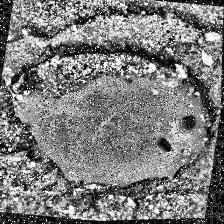pothole: (0, 25, 224, 217)
